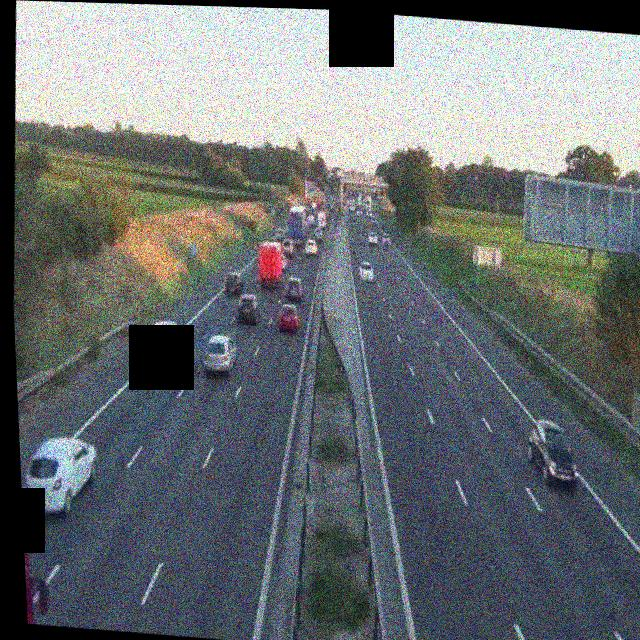car: (19, 432, 99, 520), (524, 419, 581, 491), (144, 317, 186, 371), (202, 333, 238, 376), (235, 290, 262, 325), (277, 299, 301, 332), (283, 277, 304, 303), (223, 272, 243, 296), (359, 261, 374, 283), (304, 239, 318, 257), (282, 239, 296, 257), (273, 228, 287, 243), (313, 227, 325, 243), (367, 229, 379, 244), (381, 231, 392, 243)
truck: (23, 513, 52, 626), (257, 241, 286, 291), (286, 204, 308, 245), (316, 210, 328, 230)
